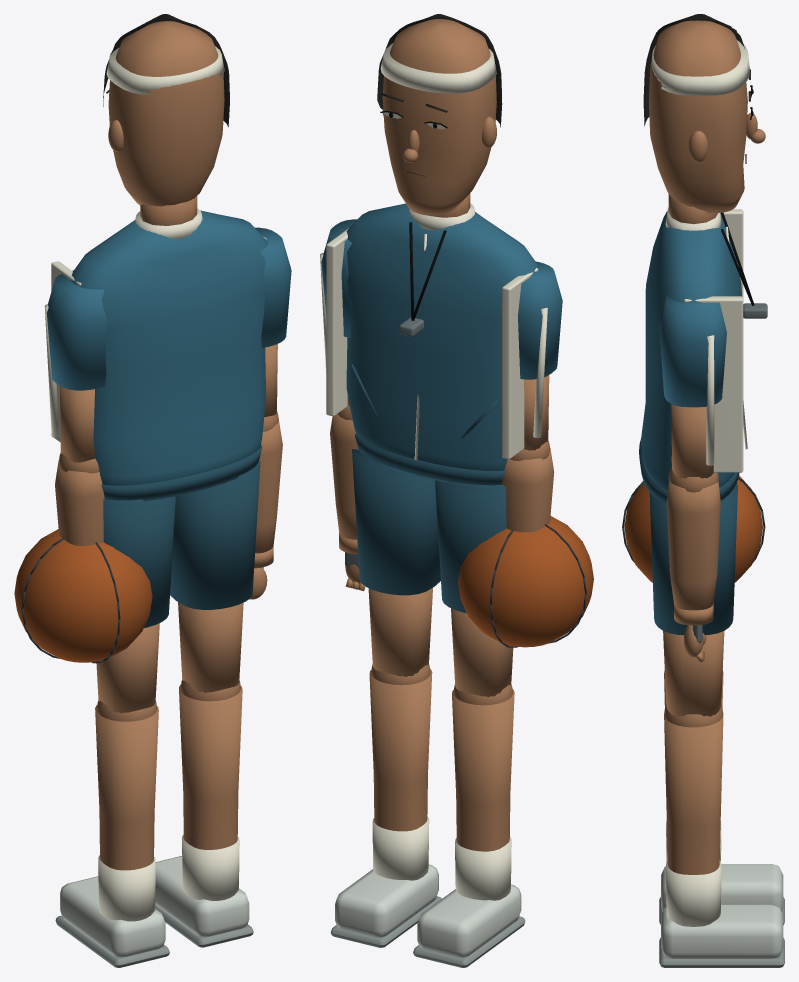
File: npc_sports.glb
3 renders of one model, left to right at view 1: azimuth 30°, elevation 25°; view 2: azimuth 150°, elevation 25°; view 3: azimuth 270°, elevation 25°, orthographic.
Visible parts, largest first — view 1: QuietClothTorso, AdultFace, Basketball, SportShorts.001, Knee, Knee.001, ShortSleeve, SportShorts, ExposedThigh.001, OrdinaryShoe, ExposedThigh, OrdinaryShoe.001 (+16 smaller); view 2: QuietClothTorso, AdultFace, Basketball, SportShorts.001, Knee, Knee.001, JacketZip, SportShorts, OrdinaryShoe, OrdinaryShoe.001, ExposedThigh.001, ShortSleeve (+15 smaller); view 3: AdultFace, QuietClothTorso, Knee.001, Cuff.001, ShortSleeve.001, JacketZip, OrdinaryShoe.001, SportShorts.001, ExposedThigh.001, Basketball, SportSock.001, OrdinaryShoe (+11 smaller).
Boxes of the visible parts, box(x1,y1,x2,y2) form: QuietClothTorso: box(70, 210, 268, 501); AdultFace: box(108, 21, 224, 206); Basketball: box(14, 529, 152, 662); SportShorts.001: box(170, 461, 260, 609); Knee: box(95, 700, 158, 870); Knee.001: box(179, 679, 242, 849); ShortSleeve: box(46, 270, 107, 390); SportShorts: box(103, 496, 175, 627); ExposedThigh.001: box(178, 602, 243, 692); OrdinaryShoe: box(60, 876, 165, 957); ExposedThigh: box(96, 623, 159, 713); OrdinaryShoe.001: box(155, 856, 249, 936); QuietClothTorso: box(346, 203, 539, 482); AdultFace: box(382, 19, 496, 215); Basketball: box(458, 516, 593, 647); SportShorts.001: box(352, 449, 440, 595); Knee: box(452, 684, 514, 851); Knee.001: box(369, 664, 432, 831); JacketZip: box(326, 203, 538, 460); SportShorts: box(435, 480, 506, 613); OrdinaryShoe: box(417, 884, 521, 957); OrdinaryShoe.001: box(335, 864, 438, 937); ExposedThigh.001: box(368, 588, 432, 676); ShortSleeve: box(505, 261, 562, 379); AdultFace: box(649, 20, 765, 213); QuietClothTorso: box(641, 211, 741, 489); Knee.001: box(664, 704, 723, 874); Cuff.001: box(666, 467, 720, 625); ShortSleeve.001: box(659, 295, 726, 407); JacketZip: box(665, 207, 747, 472); OrdinaryShoe.001: box(661, 904, 783, 958); SportShorts.001: box(649, 483, 737, 635); ExposedThigh.001: box(663, 631, 724, 716); Basketball: box(624, 475, 762, 582); SportSock.001: box(666, 860, 721, 926); OrdinaryShoe: box(661, 864, 783, 911).
Size of the model in its own units: 0.4595 by 1.54 by 0.2465.
